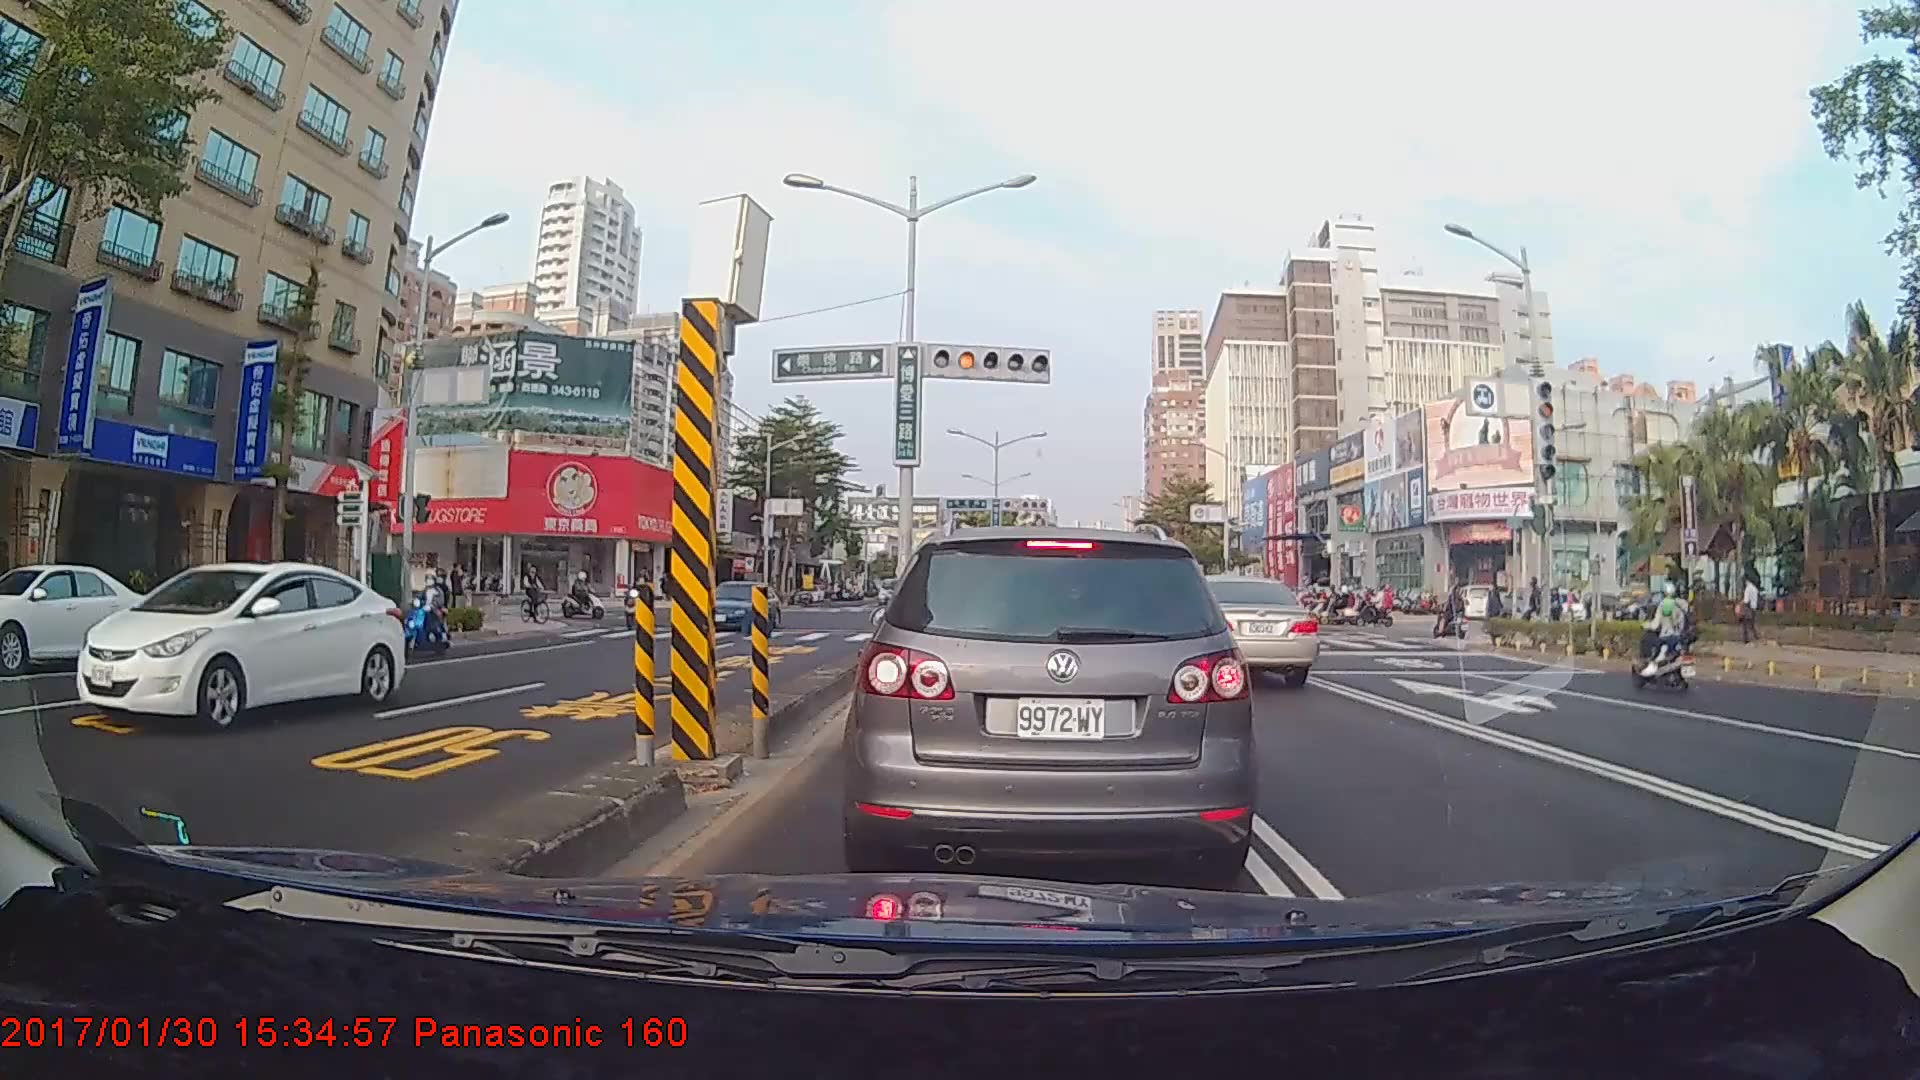pedestrian: (1739, 576, 1763, 643), (447, 563, 467, 620)
rider: (1626, 578, 1706, 698), (414, 575, 458, 655), (562, 566, 609, 619), (1435, 584, 1473, 640), (522, 566, 551, 627)
vehicle: (837, 512, 1259, 872), (76, 562, 405, 733), (1160, 574, 1319, 688), (0, 564, 158, 677), (702, 581, 782, 631)
